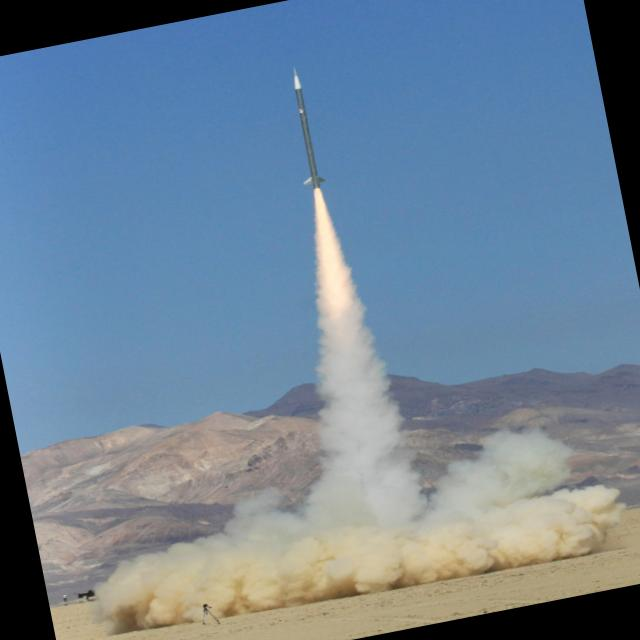rocket: (267, 46, 380, 395)
